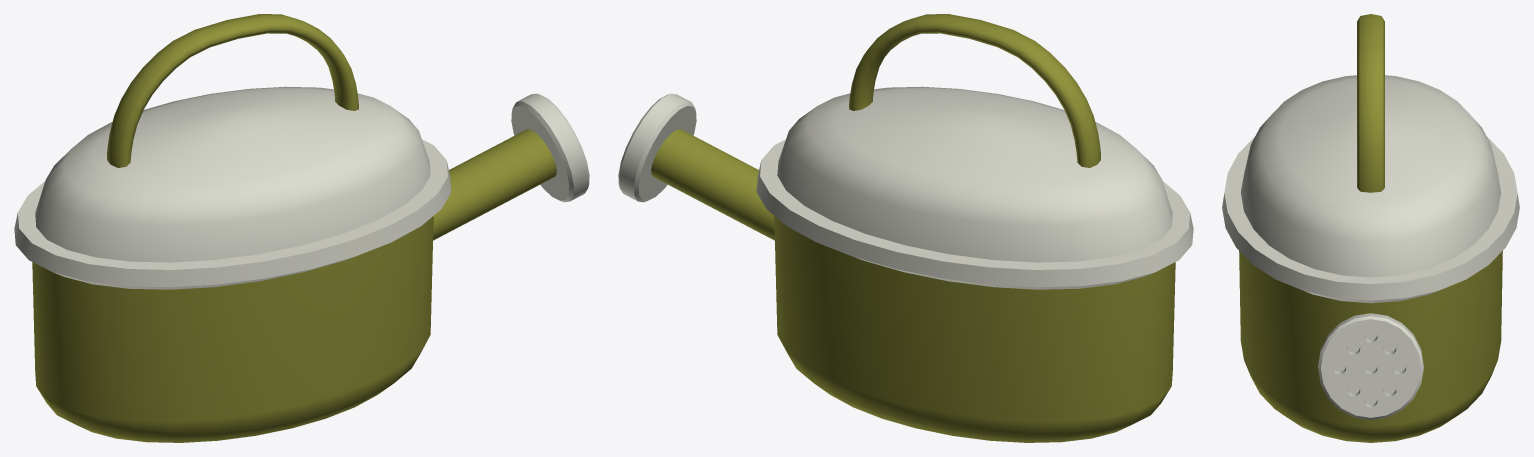
Rendered from watering can.fbx.
The picture shows the model from 3 angles, left to right: view 1: azimuth 30°, elevation 25°; view 2: azimuth 150°, elevation 25°; view 3: azimuth 270°, elevation 25°; orthographic projection. The views are drawn at different scales.
Visible parts, largest first — view 1: pSphere87; view 2: pSphere87; view 3: pSphere87.
Boxes of the visible parts, <box> form: pSphere87: <box>14,14,589,442</box>; pSphere87: <box>618,14,1193,442</box>; pSphere87: <box>1222,14,1519,442</box>.
Bounding box in the file's own units: 150 × 101 × 76.12.
